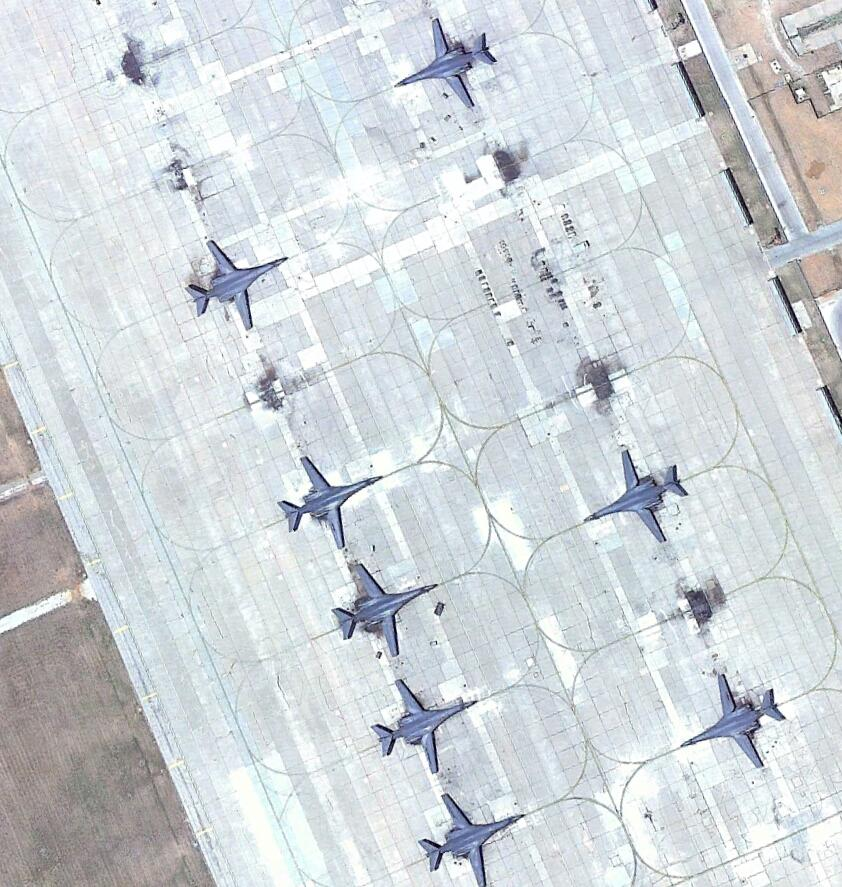A10: (271, 451, 383, 553), (330, 559, 438, 662), (681, 671, 786, 776), (582, 447, 687, 547), (367, 677, 476, 773), (414, 796, 527, 887), (394, 14, 500, 111), (182, 237, 289, 333)
